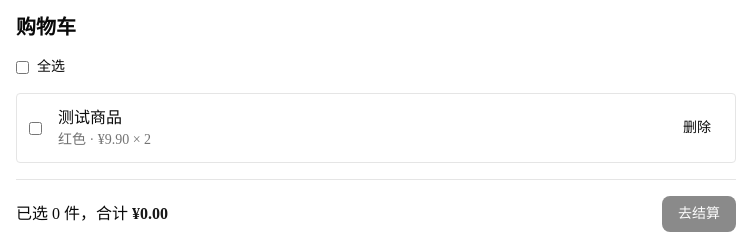
CartPage › toggles line checkbox and blocks checkout until an item is checked
Expected: the text "测试商品" is shown, [58,109,122,126]
Expected: the button "去结算" is disabled, [662,196,736,232]
# 全选 checkbox + 行内 checkbox
Step 1. Click the 2nd checkbox → (36, 128), box [29,122,42,134]
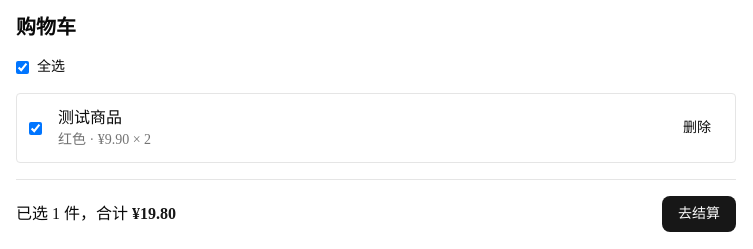
Expected: the button "去结算" is enabled, [662,196,736,232]
